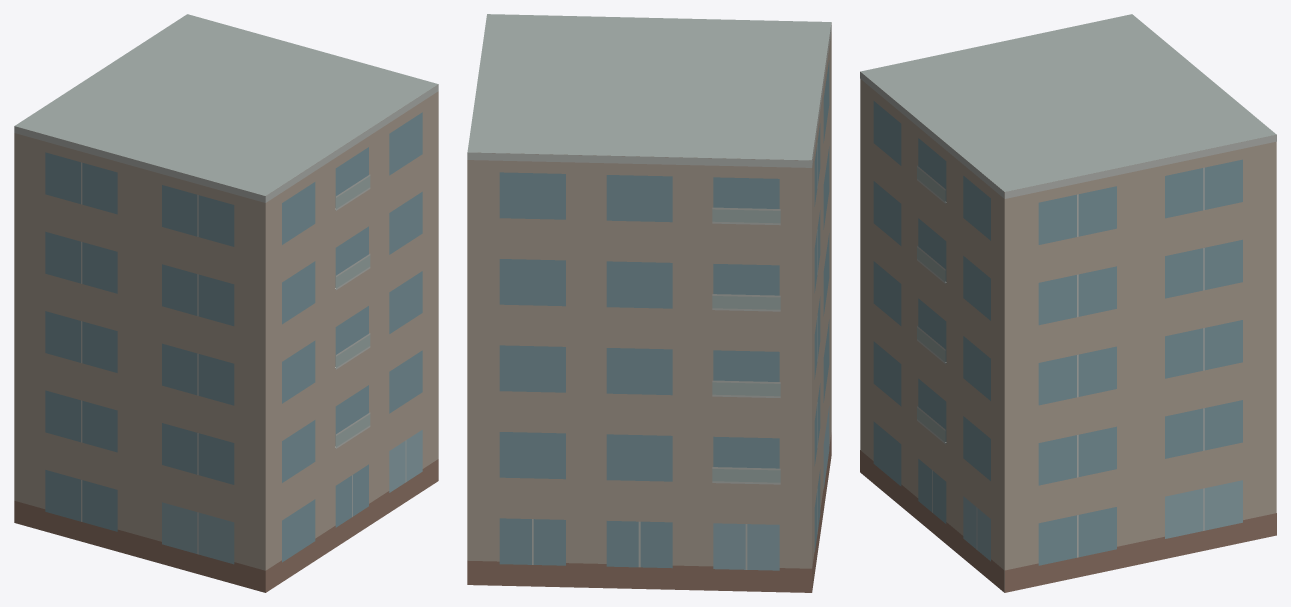
Rendered from survey-upis-32863903.glb.
The picture shows the model from 3 angles, left to right: view 1: azimuth 30°, elevation 25°; view 2: azimuth 150°, elevation 25°; view 3: azimuth 270°, elevation 25°; orthographic projection. The views are drawn at different scales.
Parts seen in each view (by area): view 1: survey-upis-32863903.tmp; view 2: survey-upis-32863903.tmp; view 3: survey-upis-32863903.tmp.
Boxes of the visible parts, <box> form: survey-upis-32863903.tmp: <box>14,14,438,592</box>; survey-upis-32863903.tmp: <box>467,14,831,592</box>; survey-upis-32863903.tmp: <box>860,14,1276,592</box>.
Bounding box in the file's own units: 13.35 × 14 × 13.2.
